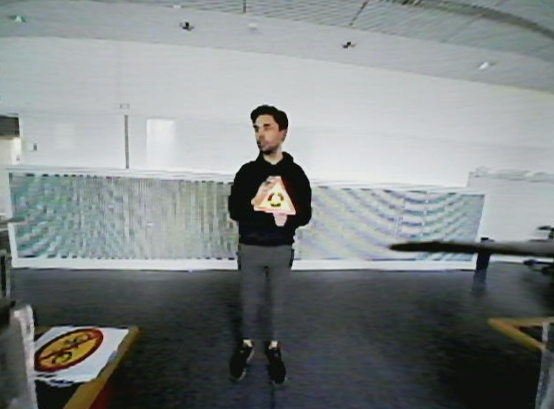roundabout_warning: (249, 172, 301, 224)
